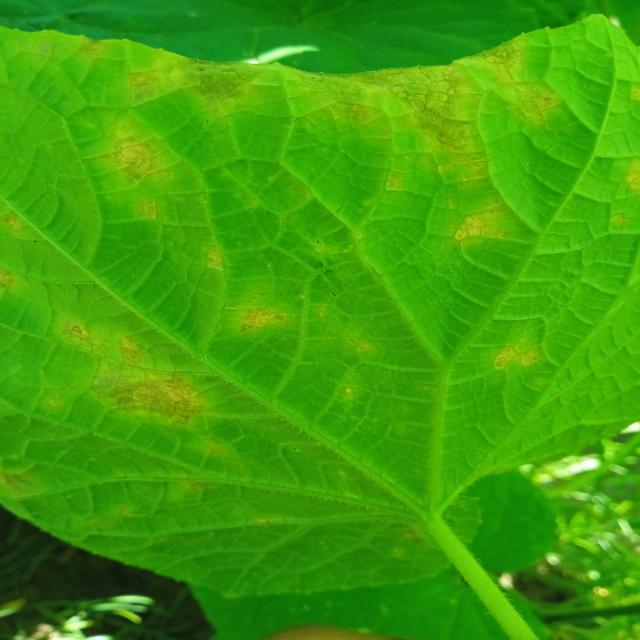cucumber_downy: (2, 28, 634, 599)
